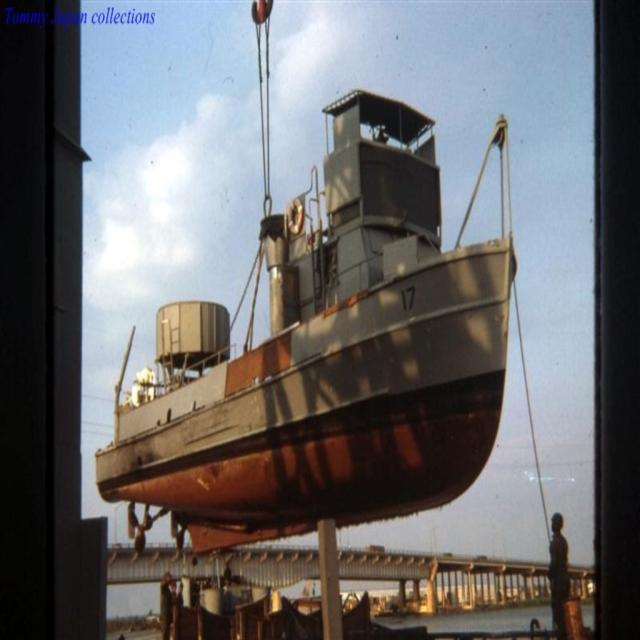Boat: (90, 59, 544, 562)
